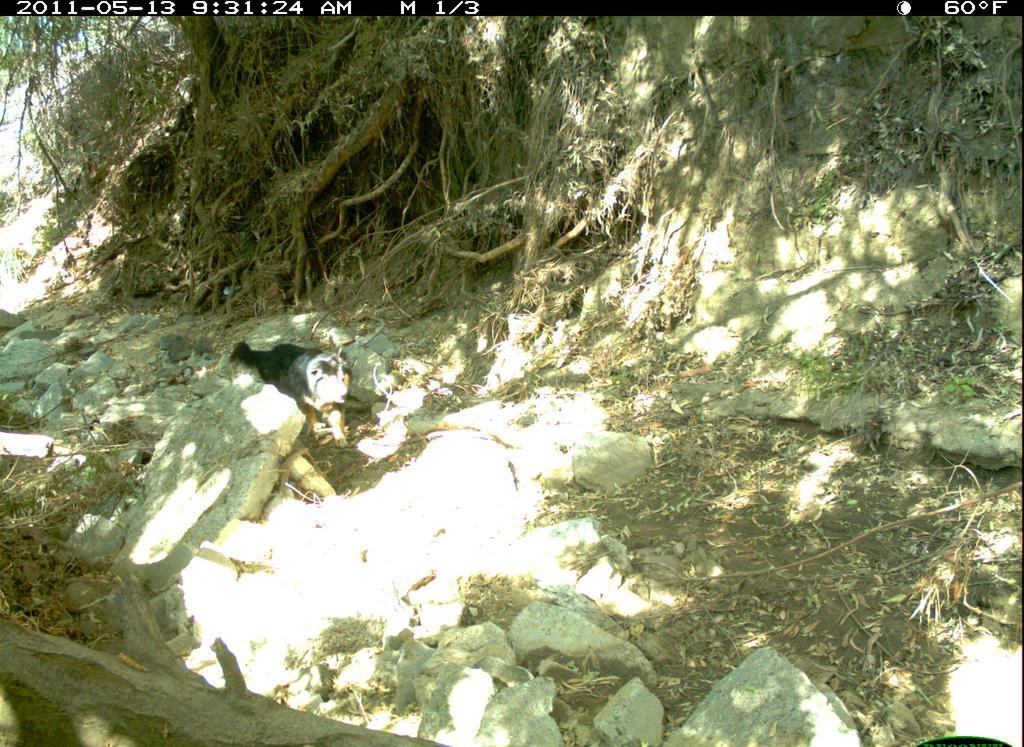dog: (219, 331, 377, 461)
